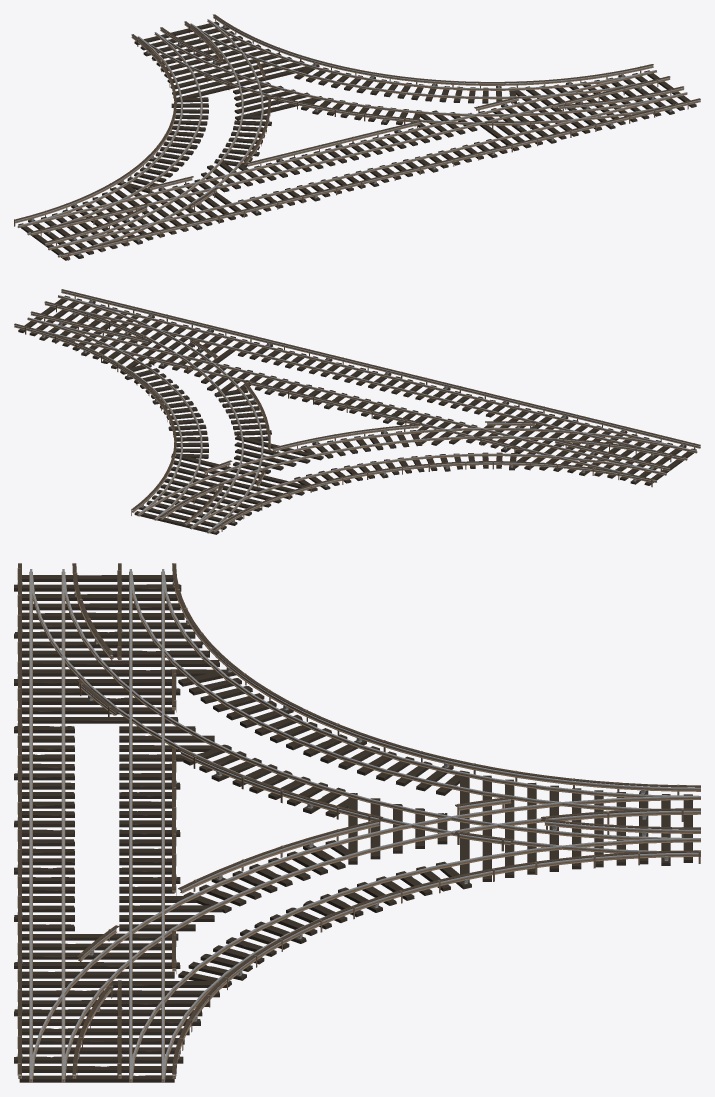
The model's file is SW_ENV_TrackJunction_EL_02.fbx.
3 views of the same model, one above another, from view 1: azimuth 30°, elevation 25°; view 2: azimuth 150°, elevation 25°; view 3: azimuth 270°, elevation 25° (orthographic). The views are drawn at different scales.
Visible parts, largest first — view 1: SW_ENV_TrackJunction_EL_02; view 2: SW_ENV_TrackJunction_EL_02; view 3: SW_ENV_TrackJunction_EL_02.
Boxes of the visible parts, box(x1,y1,x2,y2) form: SW_ENV_TrackJunction_EL_02: box(14, 14, 700, 260); SW_ENV_TrackJunction_EL_02: box(14, 289, 700, 534); SW_ENV_TrackJunction_EL_02: box(14, 563, 700, 1082).
Size of the model in its own units: 5450 by 59.49 by 3100.
